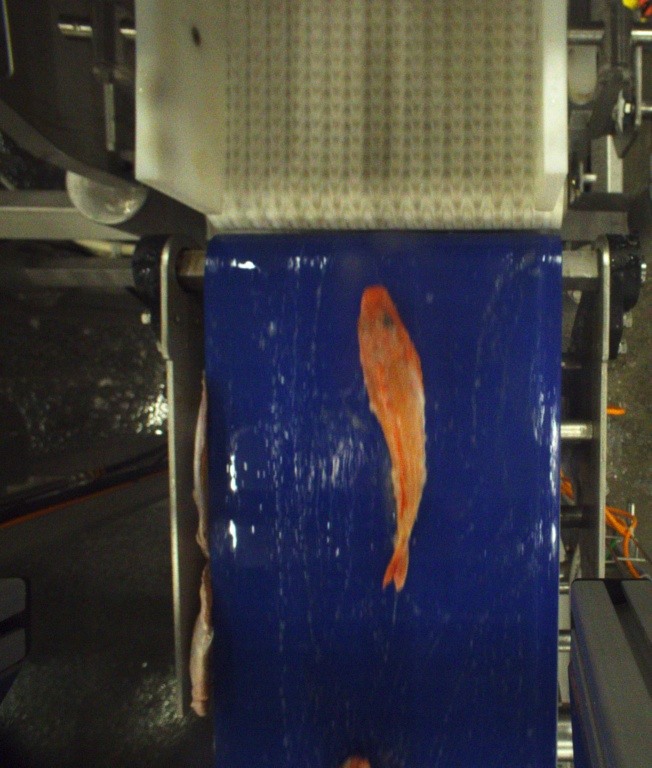GUU: (357, 283, 426, 589)
